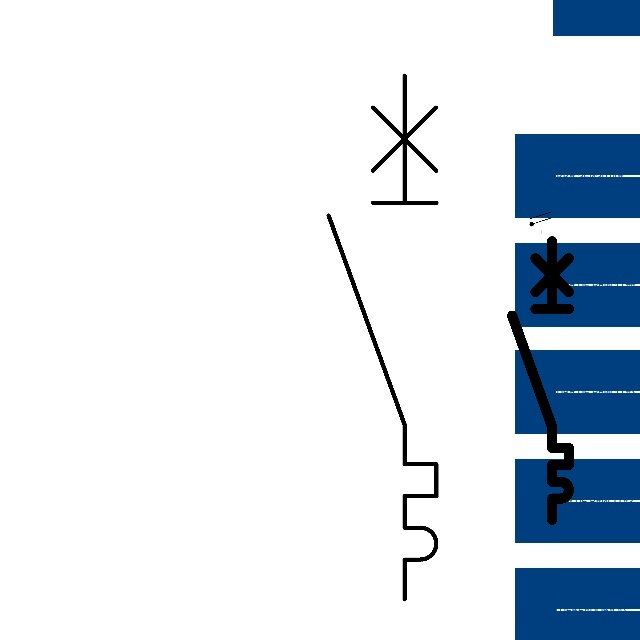interruptor_termomagnetico: (315, 62, 450, 613), (505, 234, 576, 526)
